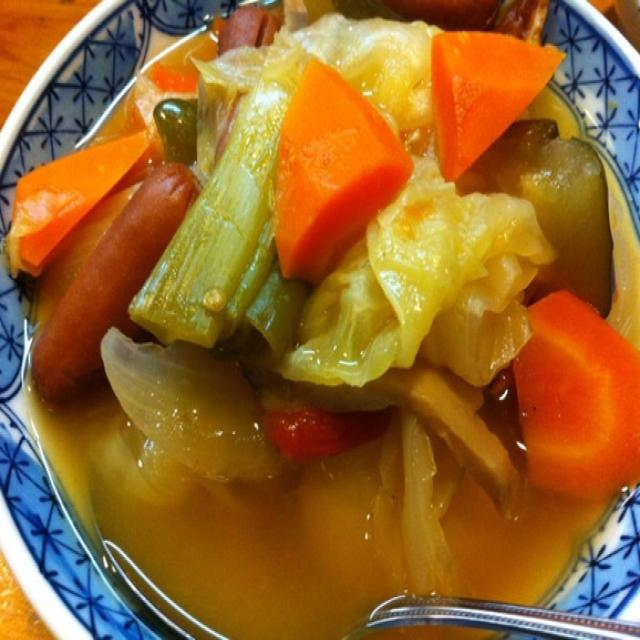汤锅炖物: (11, 14, 631, 614)
